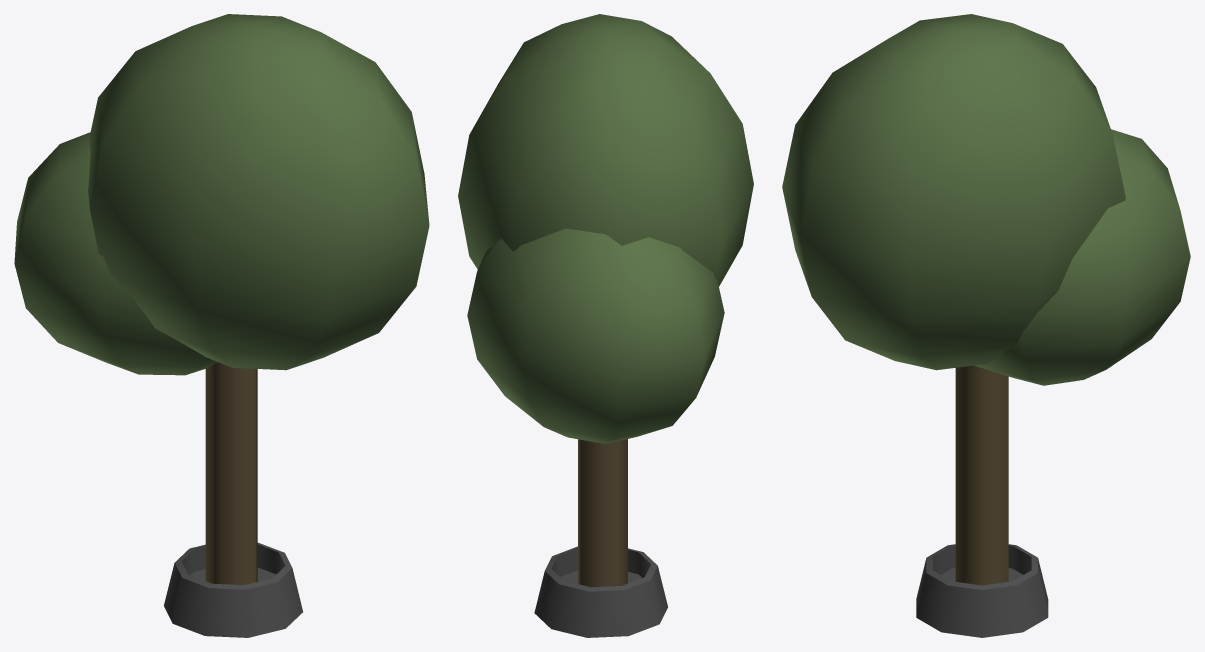
Rendered from ARBOLBLOCKINGFBX.fbx.
3 views of the same model, side by side, from view 1: azimuth 30°, elevation 25°; view 2: azimuth 150°, elevation 25°; view 3: azimuth 270°, elevation 25° (orthographic). The views are drawn at different scales.
Parts seen in each view (by area): view 1: pasted__polySurface412, polySurface412, polySurface411, polySurface410; view 2: pasted__polySurface412, polySurface412, polySurface410, polySurface411; view 3: pasted__polySurface412, polySurface412, polySurface411, polySurface410.
Boxes of the visible parts, box(x1,y1,x2,y2) form: pasted__polySurface412: box(88, 14, 429, 370); polySurface412: box(14, 132, 217, 375); polySurface411: box(205, 362, 257, 584); polySurface410: box(164, 542, 302, 637); pasted__polySurface412: box(458, 14, 753, 286); polySurface412: box(467, 228, 724, 443); polySurface410: box(534, 546, 667, 637); polySurface411: box(578, 439, 627, 587); pasted__polySurface412: box(782, 14, 1125, 370); polySurface412: box(974, 129, 1190, 385); polySurface411: box(955, 365, 1008, 585); polySurface410: box(916, 544, 1048, 637).
Bounding box in the file's own units: 5.22 × 9.29 × 5.88.
